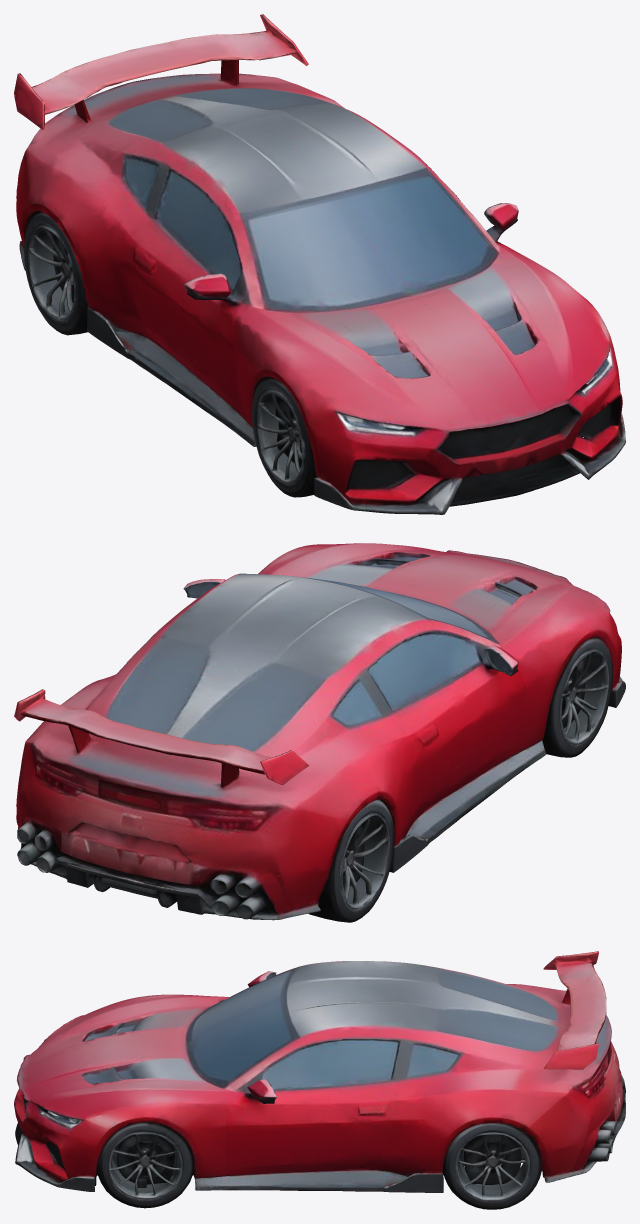
Rendered from carro_esportivo.glb.
The picture shows the model from 3 angles, top to bottom: view 1: azimuth 30°, elevation 25°; view 2: azimuth 150°, elevation 25°; view 3: azimuth 270°, elevation 25°; orthographic projection. The views are drawn at different scales.
Parts seen in each view (by area): view 1: tripo_node_49143f7e-efeb-4a2b-8fb0-16a6fc107279; view 2: tripo_node_49143f7e-efeb-4a2b-8fb0-16a6fc107279; view 3: tripo_node_49143f7e-efeb-4a2b-8fb0-16a6fc107279.
Boxes of the visible parts, bbox=[...] form: tripo_node_49143f7e-efeb-4a2b-8fb0-16a6fc107279: bbox=[14, 14, 625, 514]; tripo_node_49143f7e-efeb-4a2b-8fb0-16a6fc107279: bbox=[14, 543, 625, 922]; tripo_node_49143f7e-efeb-4a2b-8fb0-16a6fc107279: bbox=[14, 951, 625, 1209].
Size of the model in its own units: 2.17 by 1.33 by 4.5.
Materials: 1 (1 with a texture image).
